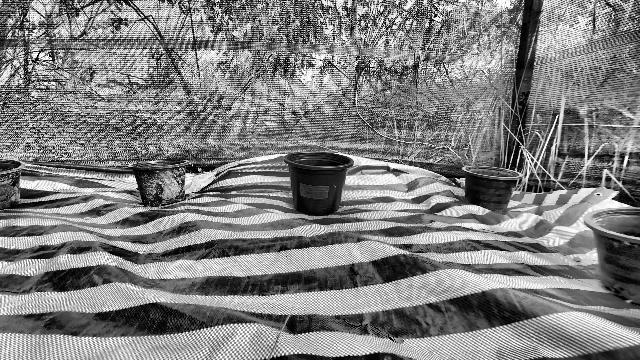pot: (584, 206, 640, 305), (284, 151, 354, 215), (128, 157, 189, 206), (462, 165, 523, 212), (0, 157, 22, 211)
